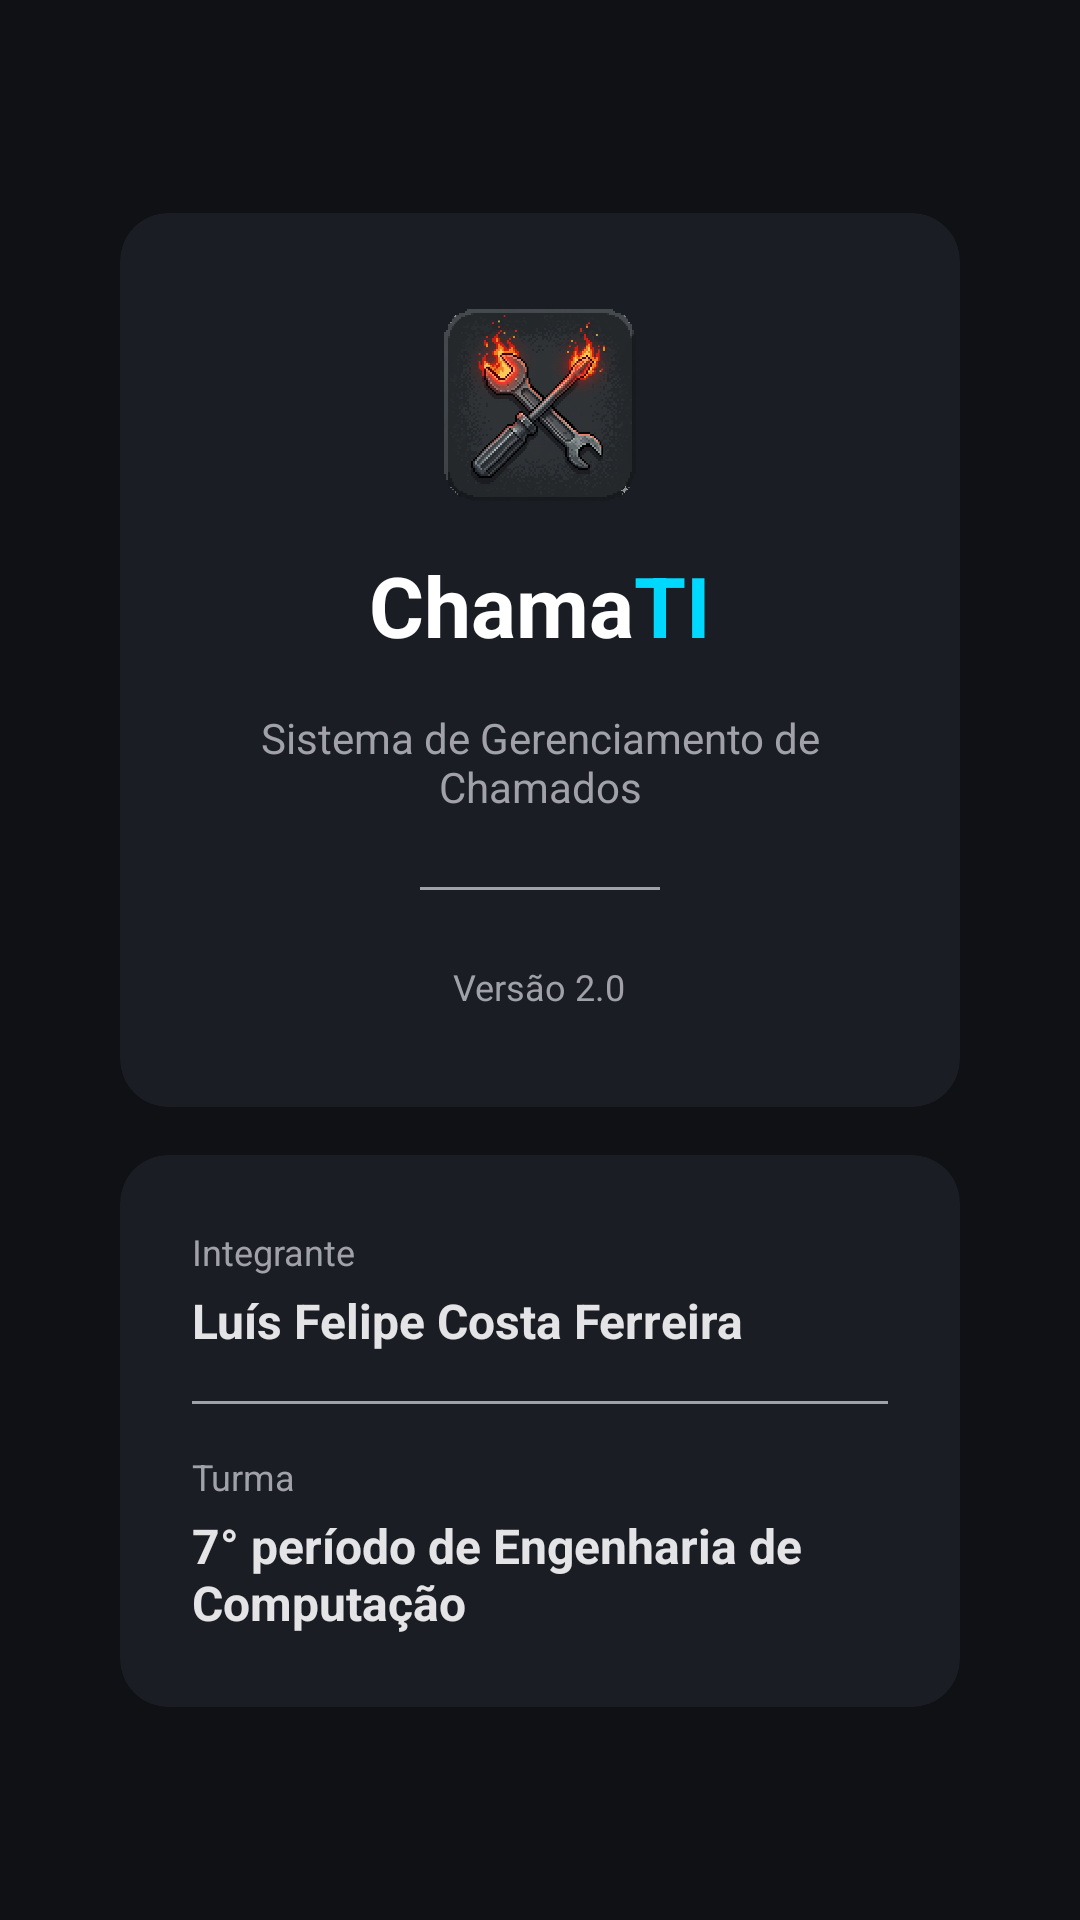

Screen size 1080 x 1920. Icon name, then its box in pixels as (x1, y1, x2, y2):
app: (444, 309, 634, 497)
